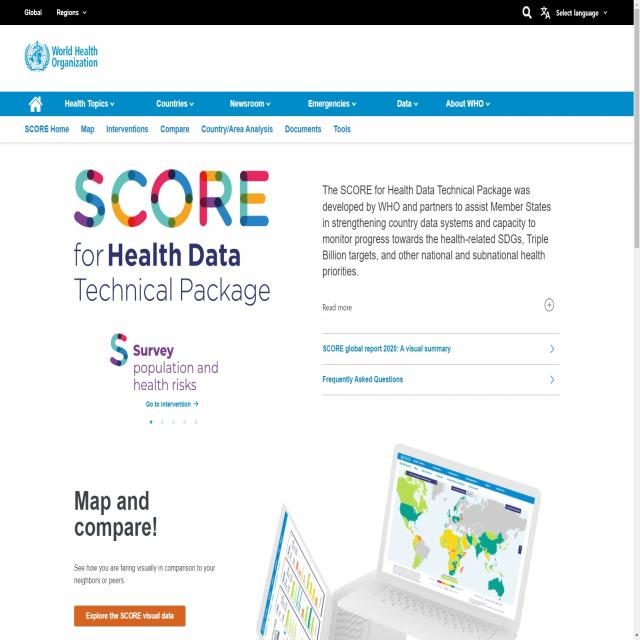menu-bar: (19, 91, 503, 143)
